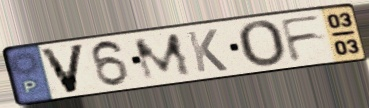6: (90, 38, 135, 91)
F: (277, 12, 325, 64)
K: (185, 27, 231, 74)
M: (130, 31, 195, 84)
O: (235, 19, 288, 69)
V: (36, 42, 88, 96)
